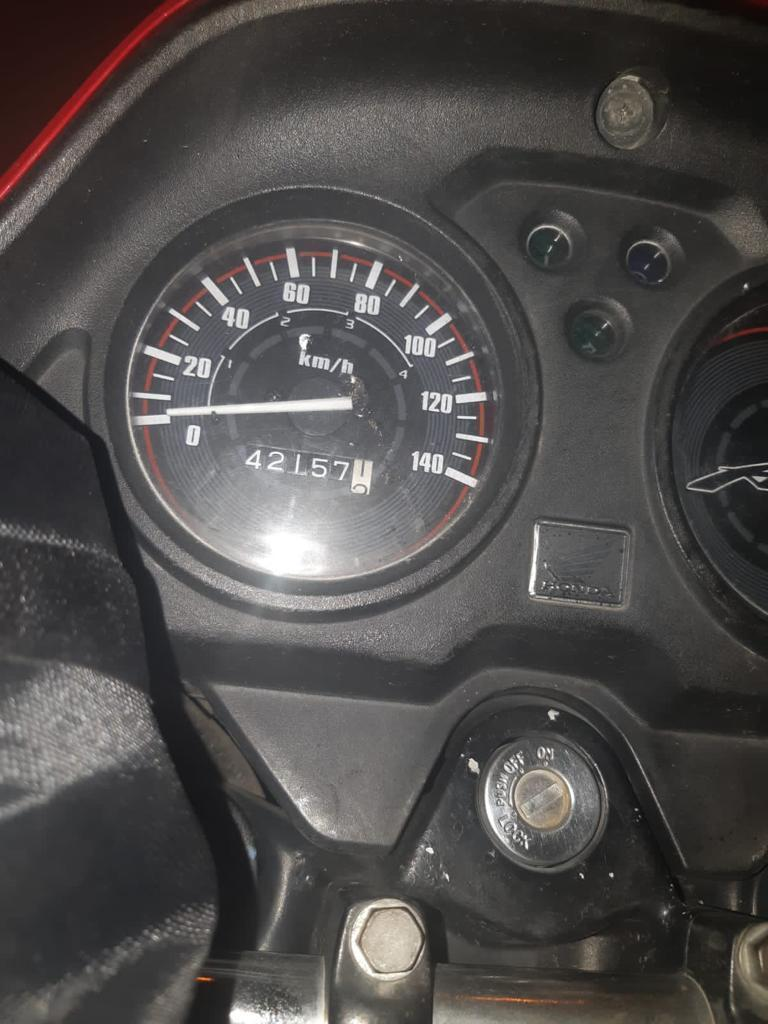1: (294, 453, 301, 474), (359, 458, 365, 479)
2: (267, 451, 284, 470)
4: (244, 449, 261, 469)
5: (311, 457, 328, 477)
7: (333, 460, 350, 480)
odometer: (241, 441, 374, 497)
